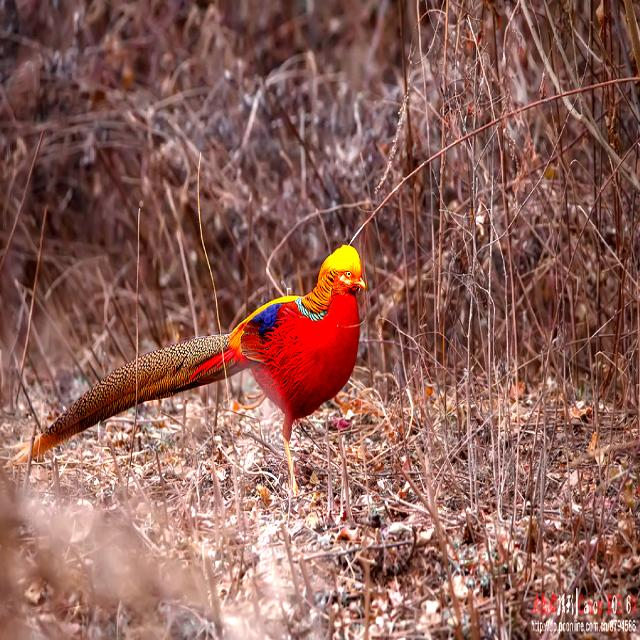Chrysolophus pictus feather: (33, 335, 228, 457)
